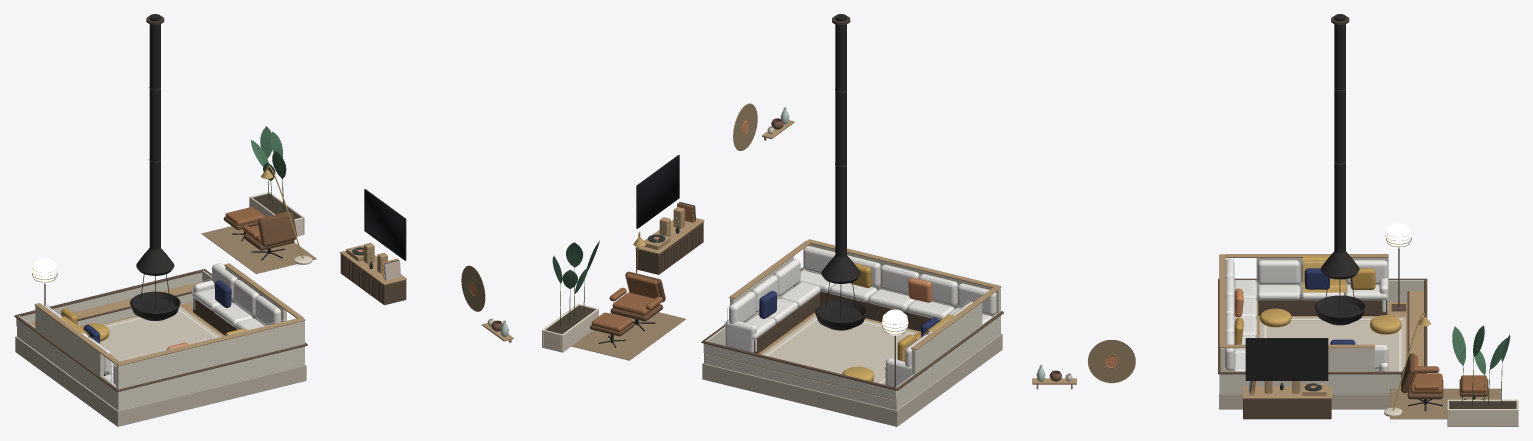
The model's file is room-lounge.glb.
3 views of the same model, side by side, from view 1: azimuth 30°, elevation 25°; view 2: azimuth 150°, elevation 25°; view 3: azimuth 270°, elevation 25° (orthographic). The views are drawn at different scales.
Visible parts, largest first — view 1: lounge__chalk limestone, lounge_placeholder_living-sofa, lounge__warm cut stone, lounge__pale oak, lounge__oatmeal wool textile, lounge__honey ash, lounge__blackened steel flue, lounge_placeholder_living-fireplace, lounge_placeholder_living-eames-lounge, lounge__woven jute, lounge__tv black glass, lounge_refined_botanical__interior Strelitzia broadleaf (+3 smaller); view 2: lounge_placeholder_living-sofa, lounge__chalk limestone, lounge__warm cut stone, lounge__oatmeal wool textile, lounge__pale oak, lounge_placeholder_living-eames-lounge, lounge__honey ash, lounge__blackened steel flue, lounge_placeholder_living-fireplace, lounge__woven jute, lounge__tv black glass, lounge_refined_botanical__honed travertine (+4 smaller); view 3: lounge_placeholder_living-sofa, lounge__chalk limestone, lounge__pale oak, lounge__matte black device, lounge__honey ash, lounge__oatmeal wool textile, lounge__blackened steel flue, lounge_placeholder_living-fireplace, lounge_placeholder_living-eames-lounge, lounge__woven jute, lounge_refined_botanical__honed travertine, lounge_decor woven jute (+5 smaller).
Boxes of the visible parts, bbox=[...] form: lounge__chalk limestone: bbox=[16, 266, 304, 410]; lounge_placeholder_living-sofa: bbox=[44, 263, 295, 385]; lounge__warm cut stone: bbox=[15, 336, 306, 426]; lounge__pale oak: bbox=[30, 243, 406, 365]; lounge__oatmeal wool textile: bbox=[100, 306, 221, 361]; lounge__honey ash: bbox=[14, 254, 406, 391]; lounge__blackened steel flue: bbox=[149, 14, 160, 234]; lounge_placeholder_living-fireplace: bbox=[130, 232, 180, 320]; lounge_placeholder_living-eames-lounge: bbox=[223, 207, 297, 260]; lounge__woven jute: bbox=[201, 225, 316, 273]; lounge__tv black glass: bbox=[364, 190, 404, 259]; lounge_refined_botanical__interior Strelitzia broadleaf: bbox=[251, 126, 286, 180]; lounge_placeholder_living-sofa: bbox=[724, 246, 996, 386]; lounge__chalk limestone: bbox=[703, 243, 1000, 410]; lounge__warm cut stone: bbox=[702, 333, 1002, 426]; lounge__oatmeal wool textile: bbox=[762, 315, 917, 384]; lounge__pale oak: bbox=[635, 207, 1001, 399]; lounge_placeholder_living-eames-lounge: bbox=[590, 271, 665, 347]; lounge__honey ash: bbox=[636, 222, 1003, 393]; lounge__blackened steel flue: bbox=[835, 14, 846, 241]; lounge_placeholder_living-fireplace: bbox=[815, 239, 867, 330]; lounge__woven jute: bbox=[571, 312, 685, 360]; lounge__tv black glass: bbox=[638, 156, 679, 228]; lounge_refined_botanical__honed travertine: bbox=[542, 303, 598, 352]; lounge_placeholder_living-sofa: bbox=[1225, 256, 1388, 371]; lounge__chalk limestone: bbox=[1220, 258, 1424, 393]; lounge__pale oak: bbox=[1219, 254, 1423, 398]; lounge__matte black device: bbox=[1245, 338, 1328, 380]; lounge__honey ash: bbox=[1218, 234, 1427, 419]; lounge__oatmeal wool textile: bbox=[1259, 317, 1405, 371]; lounge__blackened steel flue: bbox=[1334, 14, 1345, 237]; lounge_placeholder_living-fireplace: bbox=[1314, 235, 1365, 325]; lounge_placeholder_living-eames-lounge: bbox=[1401, 353, 1488, 411]; lounge__woven jute: bbox=[1390, 388, 1501, 419]; lounge_refined_botanical__honed travertine: bbox=[1447, 399, 1518, 426]; lounge_decor woven jute: bbox=[1088, 340, 1135, 383].
Size of the model in its own units: 6.26 by 6.73 by 8.52.
